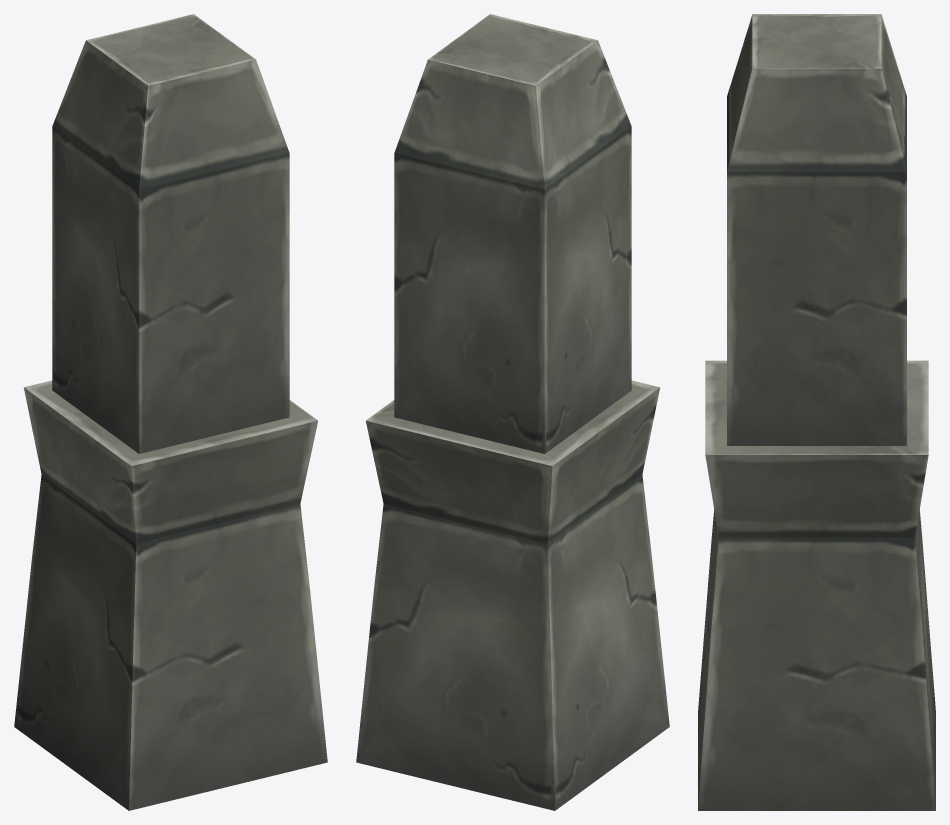
The model's file is pillar_02.fbx.
3 views of the same model, side by side, from view 1: azimuth 30°, elevation 25°; view 2: azimuth 150°, elevation 25°; view 3: azimuth 270°, elevation 25° (orthographic). The views are drawn at different scales.
Parts seen in each view (by area): view 1: pillar_02:Mesh; view 2: pillar_02:Mesh; view 3: pillar_02:Mesh.
Boxes of the visible parts, x1,y1,x2,y2 form: pillar_02:Mesh: (14,14,327,810); pillar_02:Mesh: (356,14,669,810); pillar_02:Mesh: (698,14,935,810).
Bounding box in the file's own units: 0.8432 × 2.82 × 0.8432.
